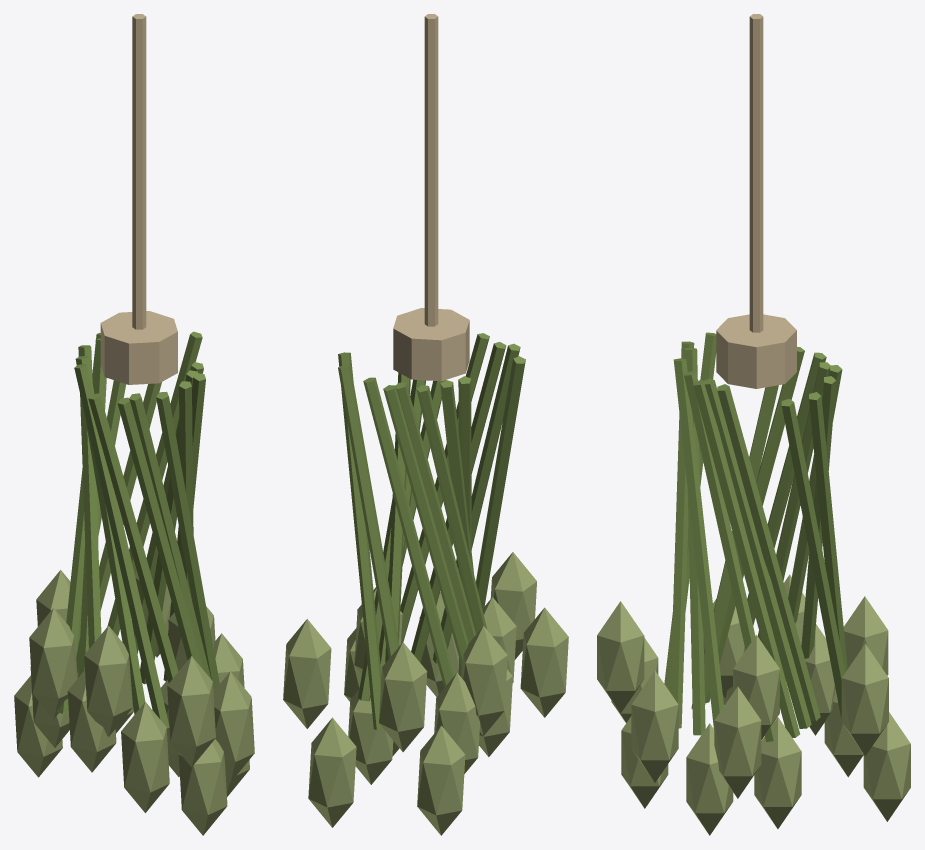
The model's file is hanging_herbs_green.glb.
3 views of the same model, side by side, from view 1: azimuth 30°, elevation 25°; view 2: azimuth 150°, elevation 25°; view 3: azimuth 270°, elevation 25° (orthographic).
Parts seen in each view (by area): view 1: Tie, Cord, Sprig12, Sprig7, Bud7, Bud15, Bud12, Sprig10, Bud9, Sprig15, Bud2, Bud10 (+19 smaller); view 2: Tie, Cord, Sprig6, Sprig11, Bud11, Bud3, Bud14, Bud7, Bud6, Sprig14, Sprig3, Sprig9 (+20 smaller); view 3: Tie, Cord, Sprig10, Sprig13, Sprig8, Sprig0, Sprig3, Bud10, Bud3, Bud15, Bud13, Sprig5 (+20 smaller).
Boxes of the visible parts, <box> form: Tie: <box>100,311,177,384</box>; Cord: <box>132,14,146,329</box>; Sprig12: <box>74,363,169,728</box>; Sprig7: <box>88,393,178,683</box>; Bud7: <box>121,702,169,812</box>; Bud15: <box>167,656,215,767</box>; Bud12: <box>84,625,132,736</box>; Sprig10: <box>156,391,219,690</box>; Bud9: <box>29,608,77,719</box>; Sprig15: <box>117,397,203,669</box>; Bud2: <box>178,739,227,835</box>; Bud10: <box>213,671,254,782</box>; Tie: <box>393,308,469,381</box>; Cord: <box>424,14,438,326</box>; Sprig6: <box>363,377,454,687</box>; Sprig11: <box>338,365,399,658</box>; Bud11: <box>308,717,356,827</box>; Bud3: <box>283,619,331,728</box>; Bud14: <box>417,725,465,835</box>; Bud7: <box>520,607,568,717</box>; Bud6: <box>379,642,427,751</box>; Sprig14: <box>383,385,468,665</box>; Sprig3: <box>338,352,383,730</box>; Sprig9: <box>416,385,487,633</box>; Tie: <box>716,314,796,388</box>; Cord: <box>749,14,763,332</box>; Sprig10: <box>673,358,723,729</box>; Sprig13: <box>693,380,799,737</box>; Sprig8: <box>717,384,820,721</box>; Sprig0: <box>704,378,811,728</box>; Sprig3: <box>781,398,845,717</box>; Bud10: <box>631,670,678,782</box>; Bud3: <box>841,643,888,756</box>; Bud15: <box>597,601,644,713</box>; Bud13: <box>714,686,761,798</box>; Sprig5: <box>684,371,776,741</box>.
Size of the model in its own units: 0.1867 by 0.754 by 0.272.
